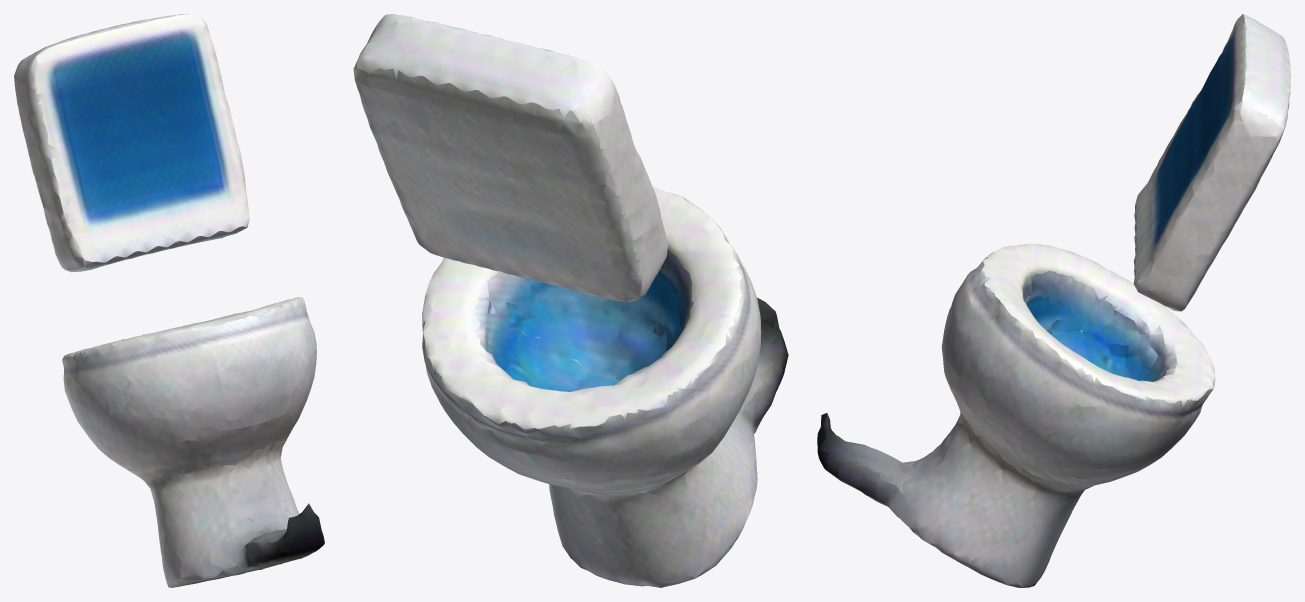
The model's file is toilet.glb.
3 renders of one model, left to right at view 1: azimuth 30°, elevation 25°; view 2: azimuth 150°, elevation 25°; view 3: azimuth 270°, elevation 25°, orthographic. The views are drawn at different scales.
Parts seen in each view (by area): view 1: world; view 2: world; view 3: world.
Boxes of the visible parts, x1,y1,x2,y2 form: world: [14, 14, 324, 587]; world: [353, 14, 788, 587]; world: [817, 14, 1290, 587].
Bounding box in the file's own units: 0.4712 × 0.9606 × 0.7914.
1 material, 1 textured.
